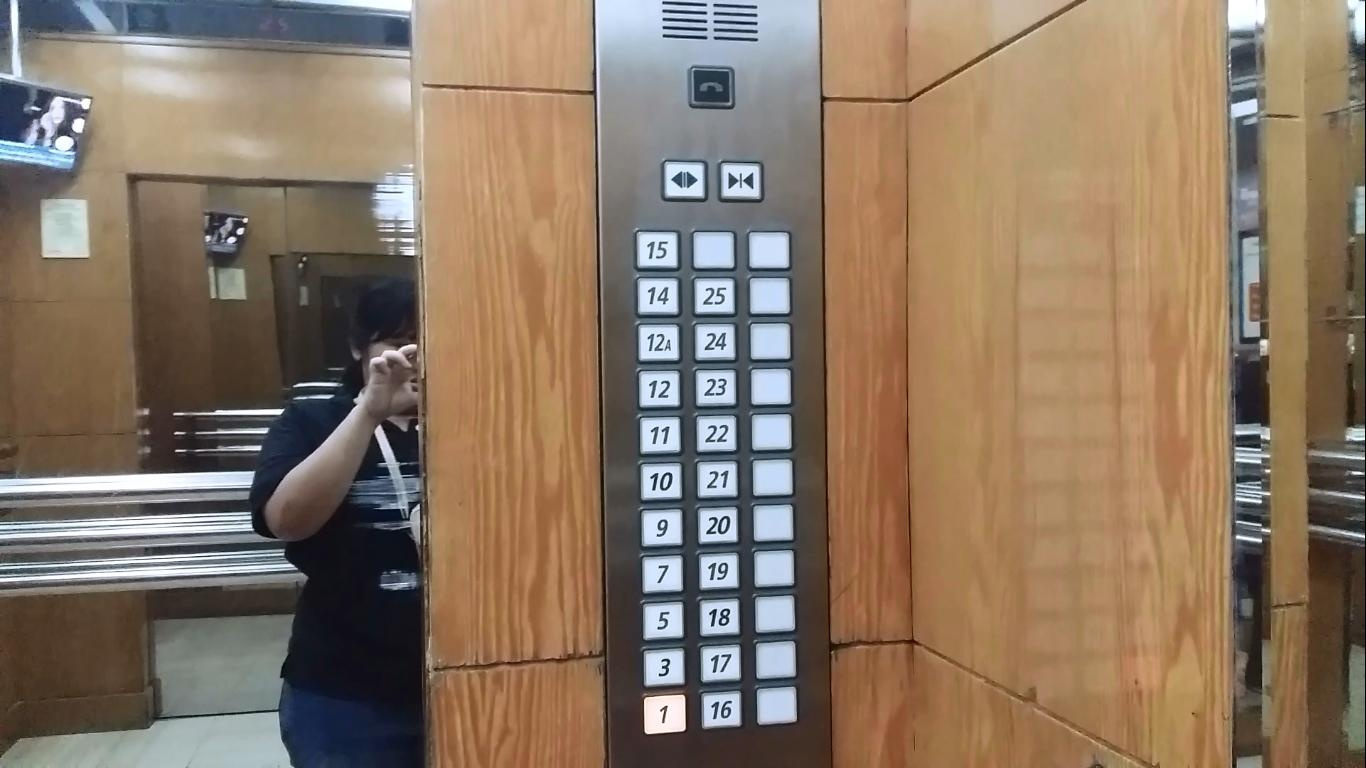1: (640, 691, 687, 738)
10: (637, 460, 685, 503)
11: (637, 414, 683, 456)
12: (635, 368, 683, 413)
12A: (635, 321, 682, 363)
14: (633, 274, 682, 318)
15: (633, 227, 681, 272)
16: (697, 686, 745, 732)
17: (696, 640, 742, 685)
18: (696, 596, 744, 641)
19: (696, 551, 742, 593)
20: (695, 503, 742, 550)
21: (694, 459, 740, 501)
22: (694, 415, 740, 454)
23: (693, 368, 739, 409)
24: (691, 322, 738, 364)
25: (691, 277, 739, 317)
3: (641, 646, 688, 689)
5: (638, 599, 687, 643)
7: (638, 554, 685, 597)
9: (638, 506, 685, 550)
call: (688, 65, 735, 109)
close: (717, 160, 764, 203)
empty: (753, 684, 800, 728), (751, 593, 798, 636), (752, 638, 798, 681), (748, 412, 795, 454), (750, 503, 797, 545), (691, 229, 736, 272), (752, 548, 797, 591), (748, 321, 794, 363), (748, 366, 794, 408), (748, 275, 792, 318), (747, 230, 792, 272), (751, 459, 796, 500)
open: (660, 160, 709, 202)
